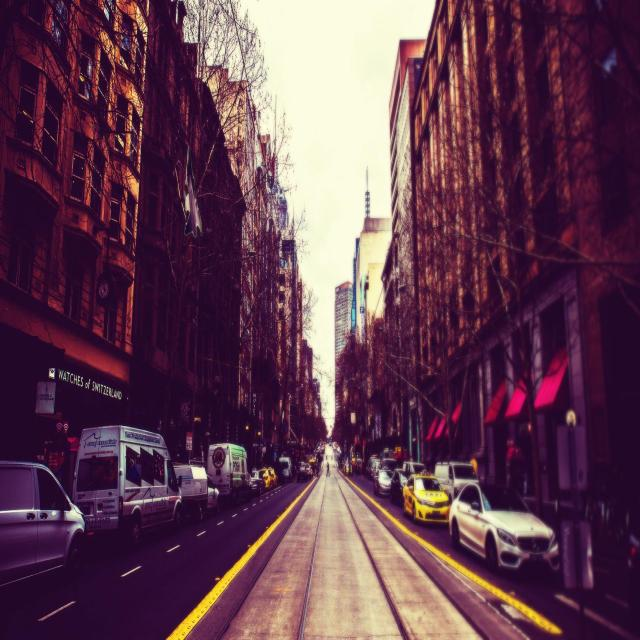airplane: (173, 144, 203, 238)
